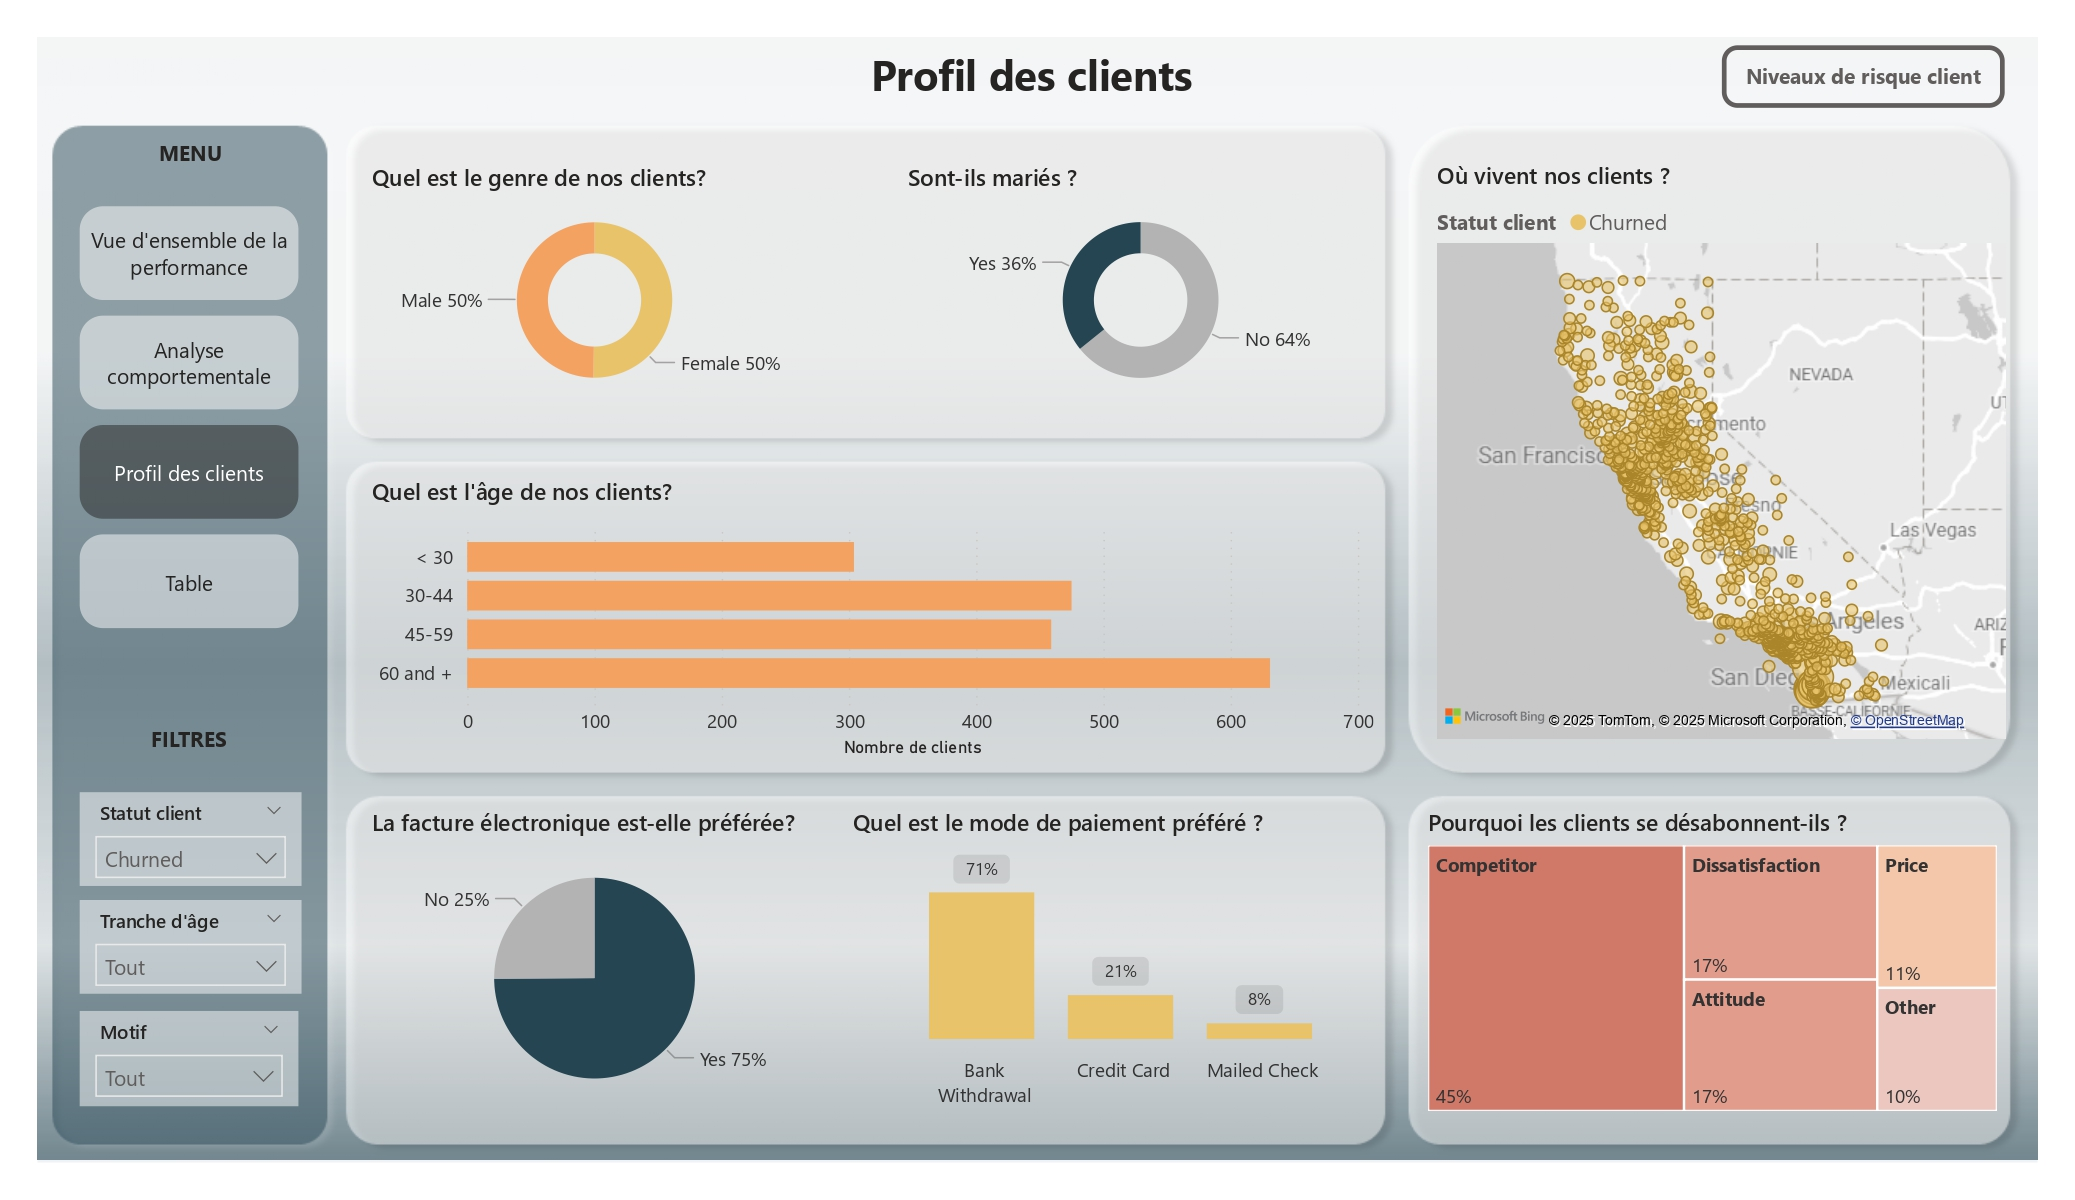

The page's visual inventory and layout, read from the dashboard file:
{"tool":"powerbi","page":{"name":"Profil des clients","canvas":[1280,720],"ordinal":3},"visuals":[{"type":"map","title":"Où vivent nos clients ?","fields":{"Size":["CountNonNull(UsageCharges.Customer ID)"],"Y":["DimCustomer.Latitude"],"X":["DimCustomer.Longitude"],"Series":["DimCustomer.Customer Status"]},"box":[890.9,77.6,373.8,376.1],"z":6000},{"type":"donutChart","title":"Quel est le genre de nos clients?","fields":{"Category":["DimCustomer.Gender"],"Y":["Count(DimCustomer.Customer ID)"]},"box":[209.2,78.8,295,158.7],"z":7000},{"type":"treemap","title":"Pourquoi les clients se désabonnent-ils ?","fields":{"Values":["CountNonNull(DimCustomer.Churn Reason)"],"Group":["DimCustomer.Churn Category"]},"box":[885.1,492.5,373.8,199.8],"z":8000},{"type":"clusteredBarChart","title":"Quel est l''âge de nos clients?","fields":{"Category":["DimCustomer.Age Range"],"Y":["CountNonNull(DimCustomer.Customer ID)"]},"box":[209.2,279.7,651.2,185.7],"z":9000},{"type":"slicer","fields":{"Values":["DimCustomer.Customer Status"]},"box":[27.2,482.8,142.1,60.5],"z":10000},{"type":"donutChart","title":"Sont-ils mariés ?","fields":{"Category":["DimCustomer.Married"],"Y":["CountNonNull(DimCustomer.Customer ID)"]},"box":[552.4,78.8,308,158.7],"z":11000},{"type":"clusteredColumnChart","title":"Quel est le mode de paiement préféré ?","fields":{"Category":["DimCustomer.Payment Method"],"Y":["Divide(CountNonNull(DimCustomer.Customer ID), ScopedEval(CountNonNull(DimCustomer.Customer ID), []))"]},"box":[517.2,492.5,343.2,199.8],"z":12000},{"type":"pieChart","title":"La facture électronique est-elle préférée?","fields":{"Category":["DimCustomer.Paperless Billing"],"Y":["CountNonNull(DimCustomer.Customer ID)"]},"box":[209.2,492.5,295,199.8],"z":13000},{"type":"slicer","fields":{"Values":["DimCustomer.Age Range"]},"box":[27.2,552.3,142.1,59.5],"z":14000},{"type":"actionButton","box":[1078.4,5,180.4,40.3],"z":15000},{"type":"textbox","box":[0,0,1280,50.4],"z":16000},{"type":"pageNavigator","box":[27.2,107.8,140.1,272.1],"z":17000},{"type":"slicer","fields":{"Values":["DimCustomer.Churn Category"]},"box":[27.2,622.9,140.1,61.5],"z":18000},{"type":"textbox","box":[49.4,60.5,97.8,36.3],"z":19000},{"type":"textbox","box":[48.4,435.4,97.8,31.2],"z":20000}]}

Visuals, with their boxes on the page's 1280x720 design canvas (x1, y1, x2, y2). These are canvas units, not pixel positions in the 2075x1200 screenshot, which may show the page scaled, cropped or inside an application window:
"Où vivent nos clients ?" map: box(891, 78, 1265, 454)
"Quel est le genre de nos clients?" donutChart: box(209, 79, 504, 238)
"Pourquoi les clients se désabonnent-ils ?" treemap: box(885, 492, 1259, 692)
"Quel est l''âge de nos clients?" clusteredBarChart: box(209, 280, 860, 465)
slicer - DimCustomer.Customer Status: box(27, 483, 169, 543)
"Sont-ils mariés ?" donutChart: box(552, 79, 860, 238)
"Quel est le mode de paiement préféré ?" clusteredColumnChart: box(517, 492, 860, 692)
"La facture électronique est-elle préférée?" pieChart: box(209, 492, 504, 692)
slicer - DimCustomer.Age Range: box(27, 552, 169, 612)
actionButton: box(1078, 5, 1259, 45)
textbox: box(0, 0, 1280, 50)
pageNavigator: box(27, 108, 167, 380)
slicer - DimCustomer.Churn Category: box(27, 623, 167, 684)
textbox: box(49, 60, 147, 97)
textbox: box(48, 435, 146, 467)
